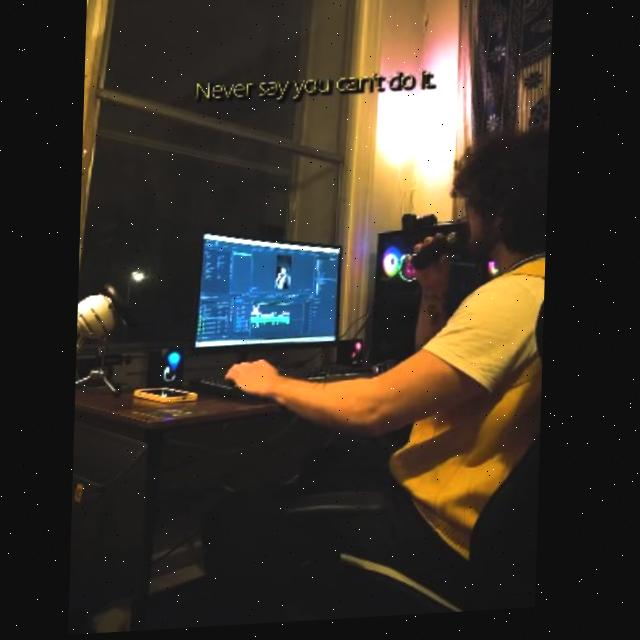vape: (412, 237, 463, 276)
